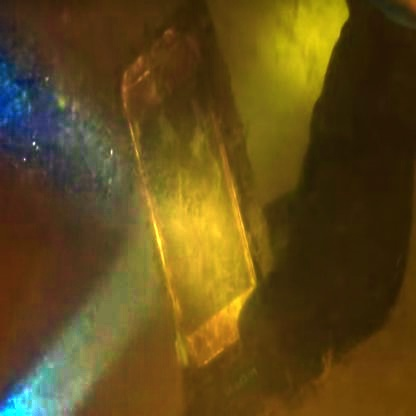cellphone: (118, 18, 261, 375)
